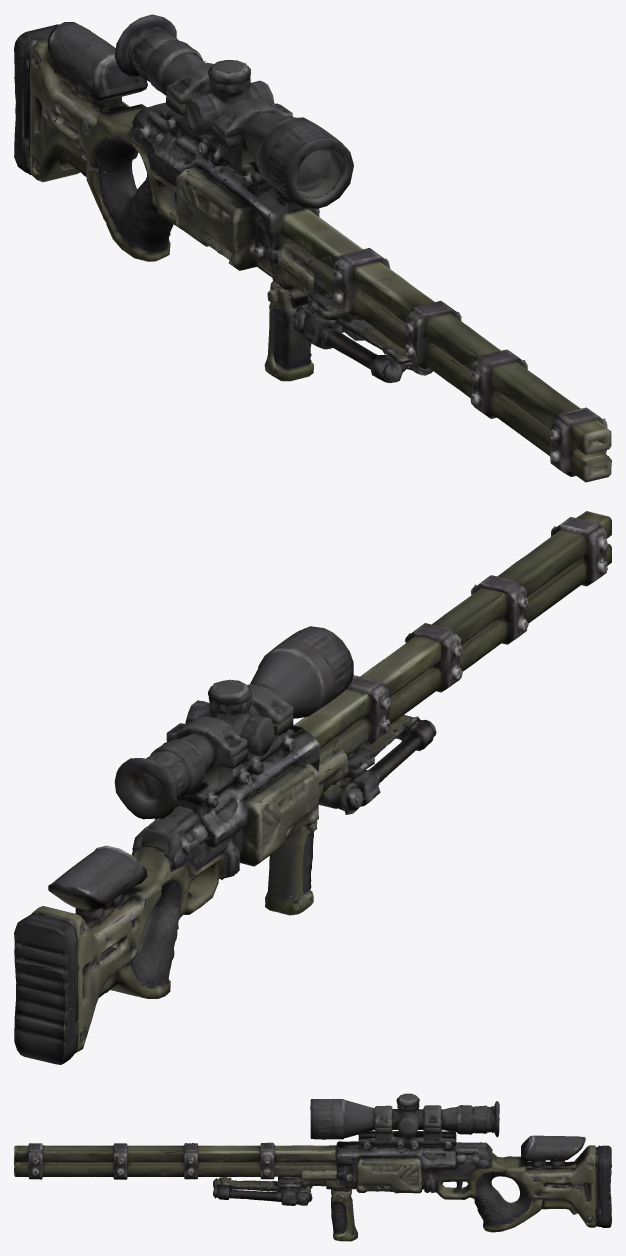
The model's file is weapon_lance.glb.
3 views of the same model, one above another, from view 1: azimuth 30°, elevation 25°; view 2: azimuth 150°, elevation 25°; view 3: azimuth 270°, elevation 25° (orthographic). The views are drawn at different scales.
Visible parts, largest first — view 1: weapon_lance; view 2: weapon_lance; view 3: weapon_lance.
Part boxes in pixels (x1,y1,x2,y2): weapon_lance: [14, 14, 611, 482]; weapon_lance: [14, 511, 611, 1064]; weapon_lance: [14, 1093, 611, 1241].
Bounding box in the file's own units: 0.1194 × 0.3497 × 1.35.
1 material, 1 textured.
